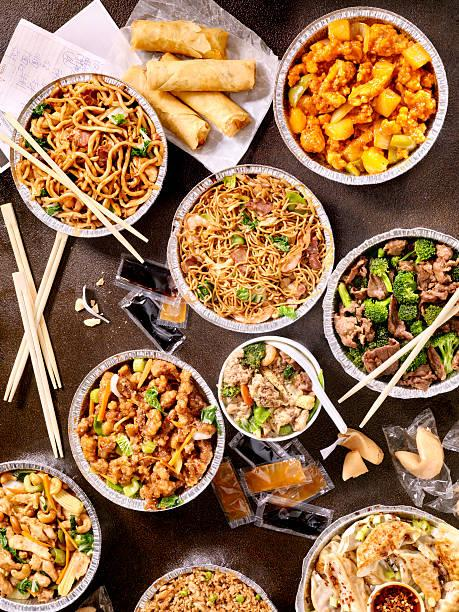Braised Crucian Carp: (273, 6, 451, 185), (166, 167, 330, 325), (67, 350, 222, 510), (8, 80, 168, 230), (322, 228, 453, 392), (0, 461, 101, 610), (217, 337, 326, 441)
